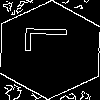L: (25, 25, 78, 54)
